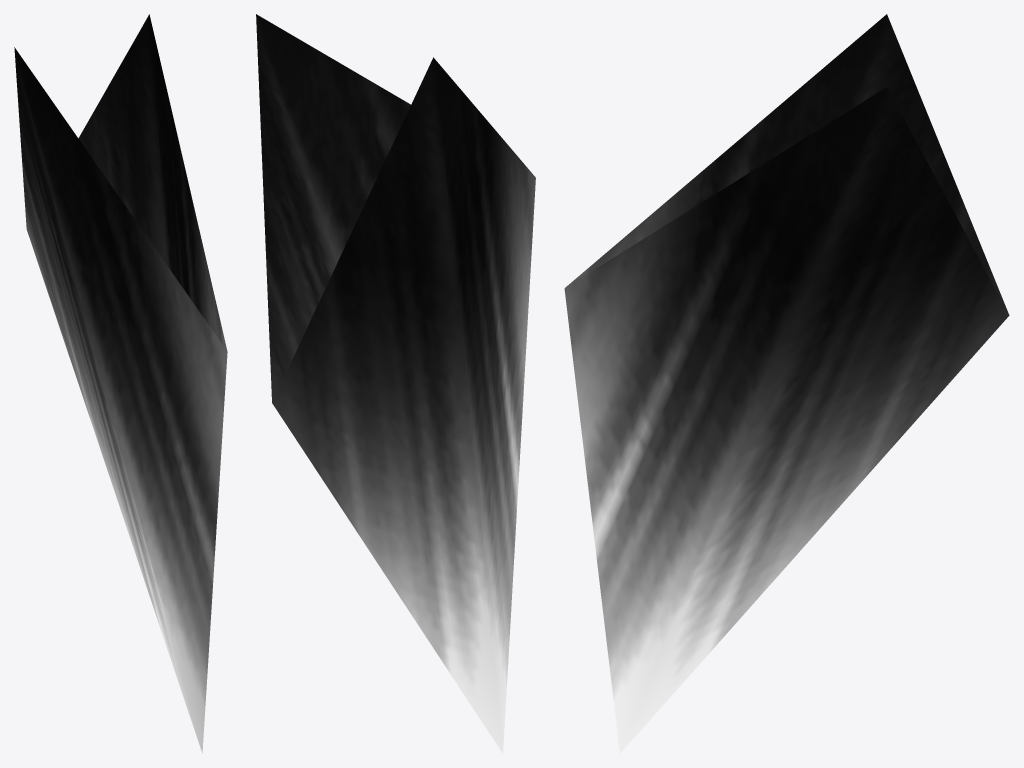
The model's file is FX_lfl_wuqi_166_ci.FBX.
3 views of the same model, side by side, from view 1: azimuth 30°, elevation 25°; view 2: azimuth 150°, elevation 25°; view 3: azimuth 270°, elevation 25° (orthographic). The views are drawn at different scales.
Parts seen in each view (by area): view 1: 0004; view 2: 0004; view 3: 0004.
Boxes of the visible parts, left/top/right/bottom form: 0004: left=14, top=14, right=227, bottom=753; 0004: left=256, top=14, right=535, bottom=753; 0004: left=564, top=14, right=1009, bottom=753.
Size of the model in its own units: 1.94 by 8.72 by 5.
Materials: 1 (1 with a texture image).
